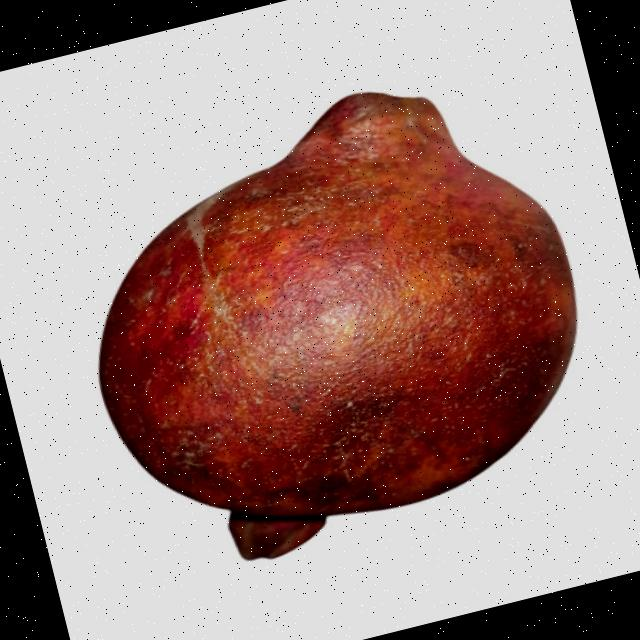overripe: (31, 47, 624, 588)
